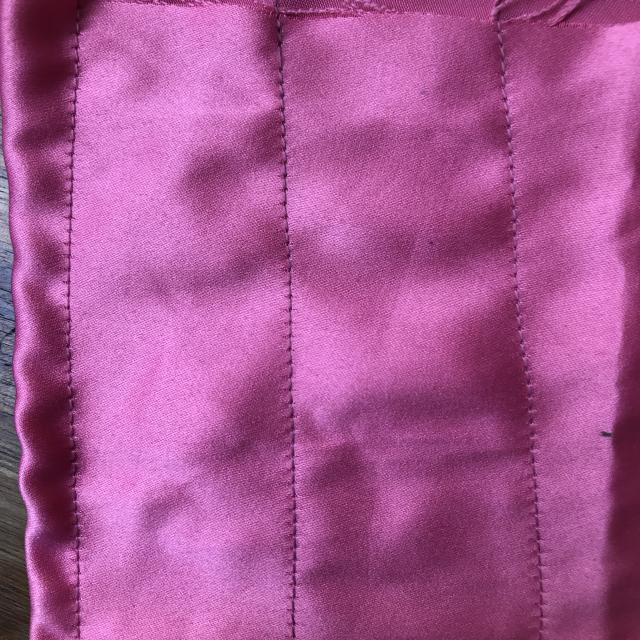good: (273, 370, 318, 535), (270, 153, 310, 310)
